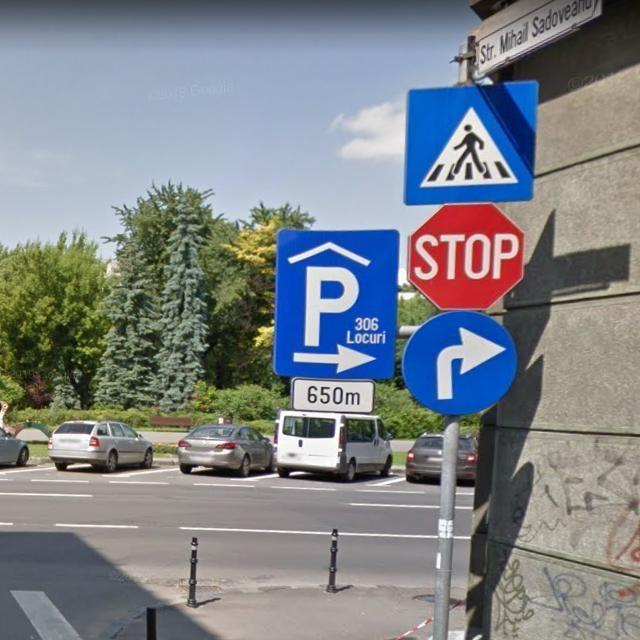info_crosswalk: (402, 85, 537, 201)
prio_stop: (405, 201, 524, 310)
